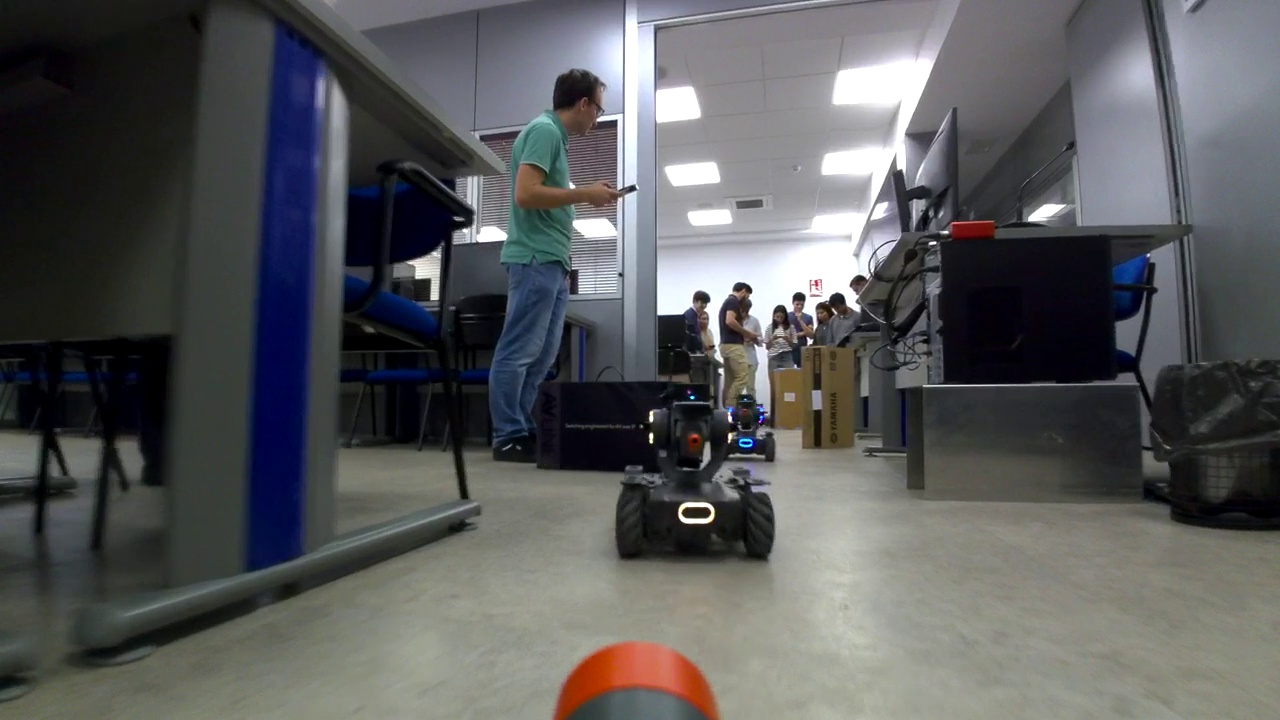robot: (618, 406, 773, 565), (724, 403, 770, 459)
